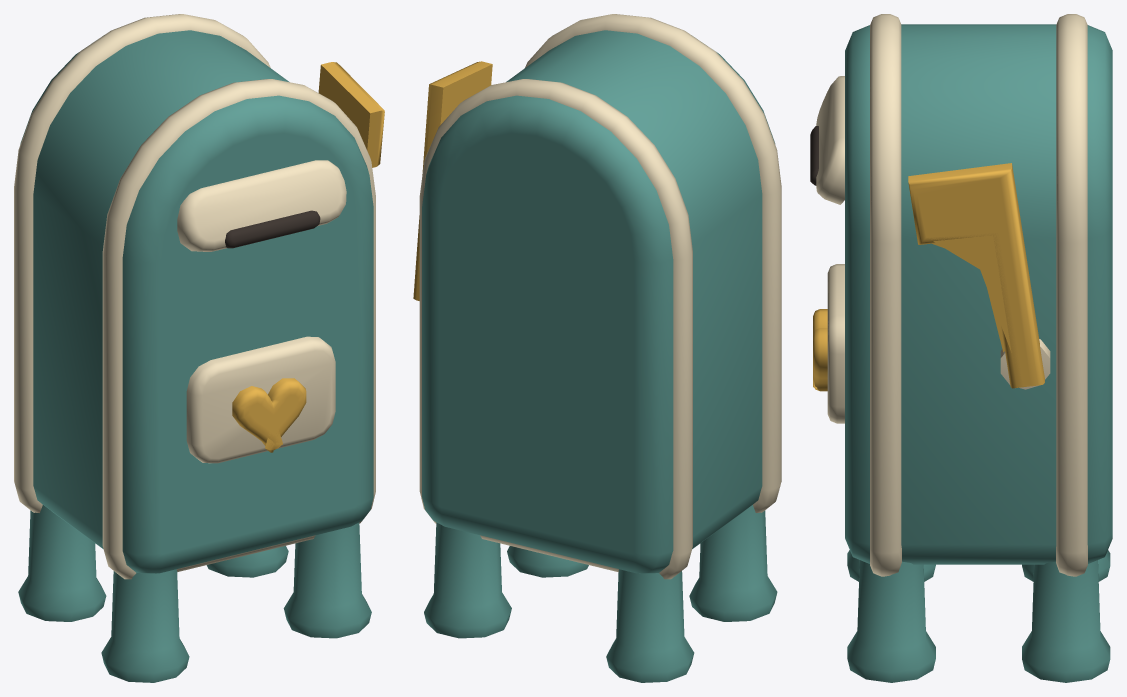
The model's file is ShopMailbox.fbx.
3 renders of one model, left to right at view 1: azimuth 30°, elevation 25°; view 2: azimuth 150°, elevation 25°; view 3: azimuth 270°, elevation 25°, orthographic. The views are drawn at different scales.
Parts seen in each view (by area): view 1: ShopMailbox; view 2: ShopMailbox; view 3: ShopMailbox.
Boxes of the visible parts, <box> form: ShopMailbox: <box>14,14,384,682</box>; ShopMailbox: <box>413,14,781,682</box>; ShopMailbox: <box>810,14,1112,682</box>.
Bounding box in the file's own units: 0.608 × 1.12 × 0.5199.
